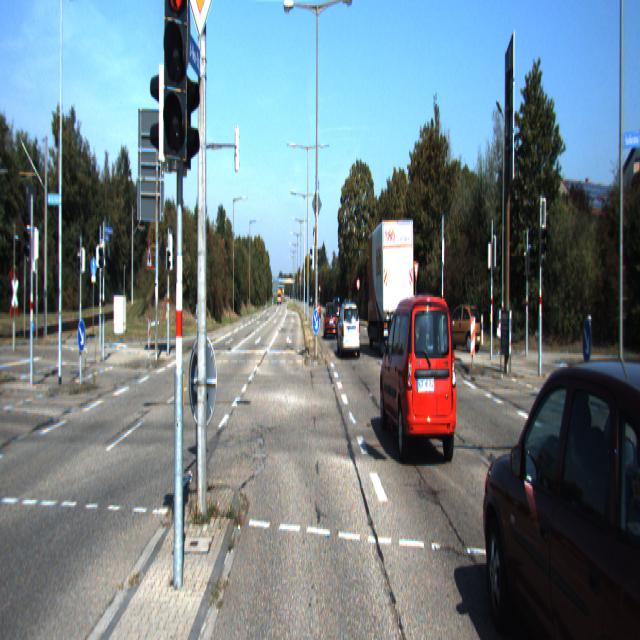Car: (482, 340, 640, 638), (379, 287, 458, 473), (366, 214, 414, 359), (442, 302, 482, 352), (337, 300, 361, 360), (324, 302, 338, 340)
